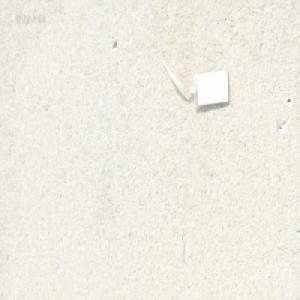LuggageTag: (159, 53, 231, 113)
